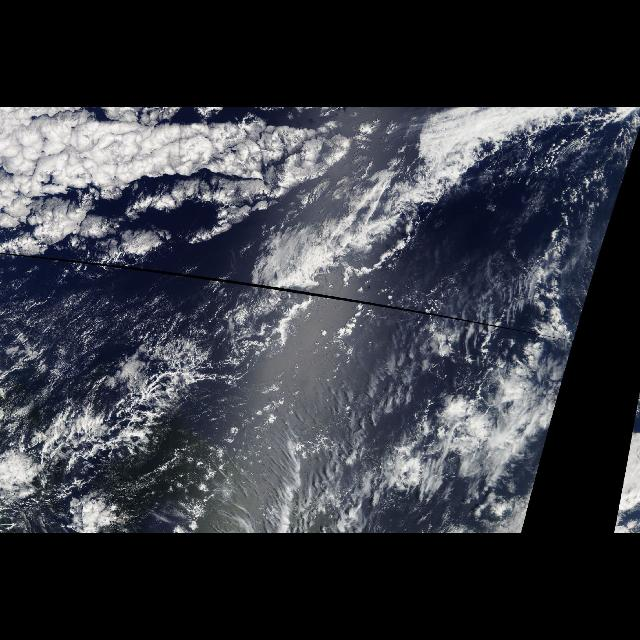Fish: (0, 126, 598, 532)
Sugar: (7, 287, 142, 401)
